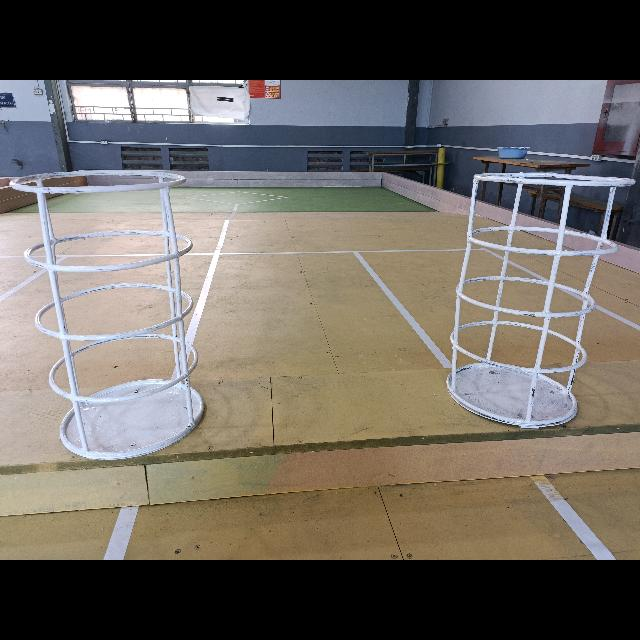S: (8, 171, 207, 462), (447, 174, 633, 429)
